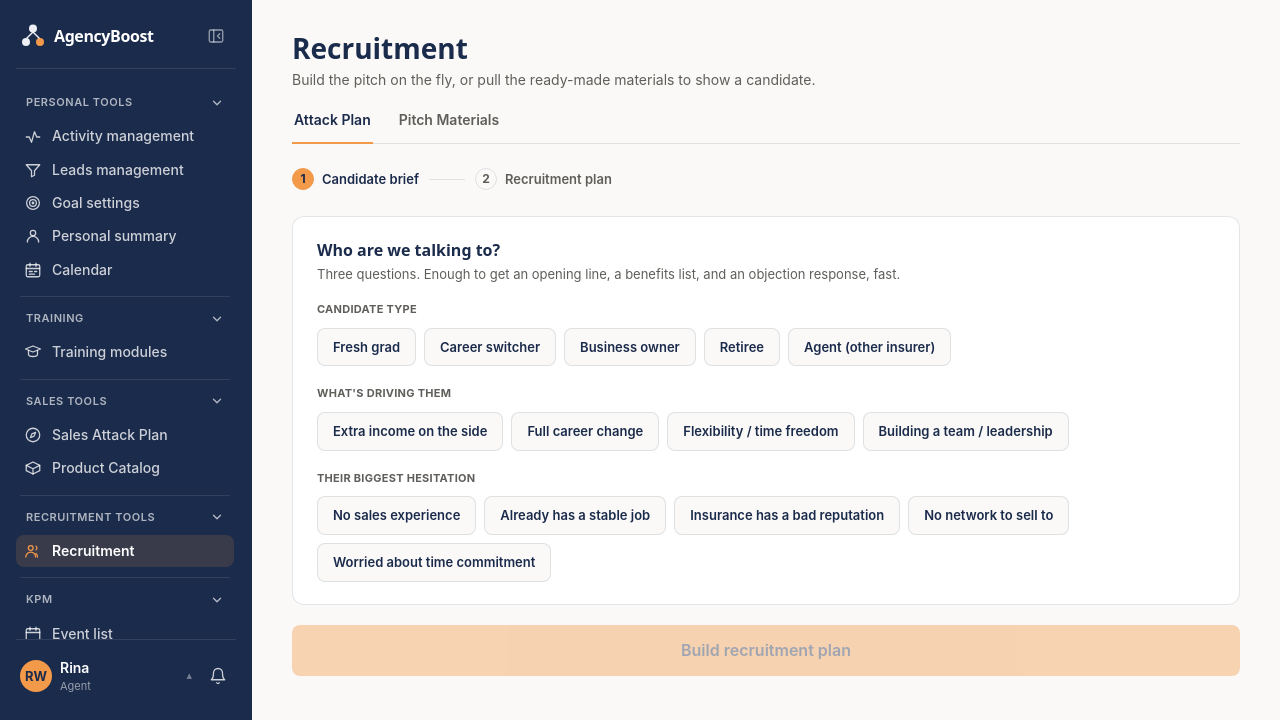
Test: /recruitment/attack-plan, the Recruitment Attack Plan (P17-T3) › the page and the brief, verbatim (AC-2, AC-3) › P17-T3 AC-3 Build recruitment plan: amber (an action, ADR-0137), full width, disabled until a type, a motivation and a hesitation
The image size is (1280, 720).
expect the button "Build recruitment plan" is disabled: met, box [292,625,1240,676]
Click the button "Retiree" at (742,347), box [704,328,780,366]
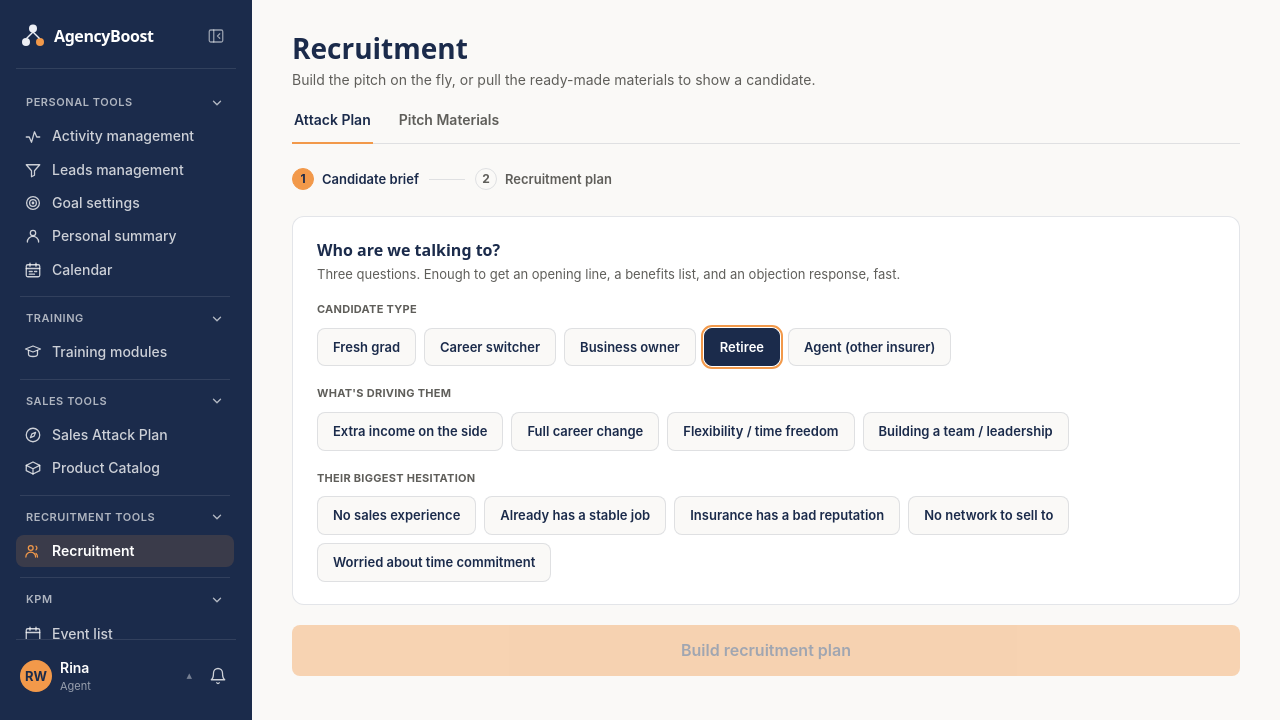
Click the button "Full career change" at (585,431), box [511,412,659,451]
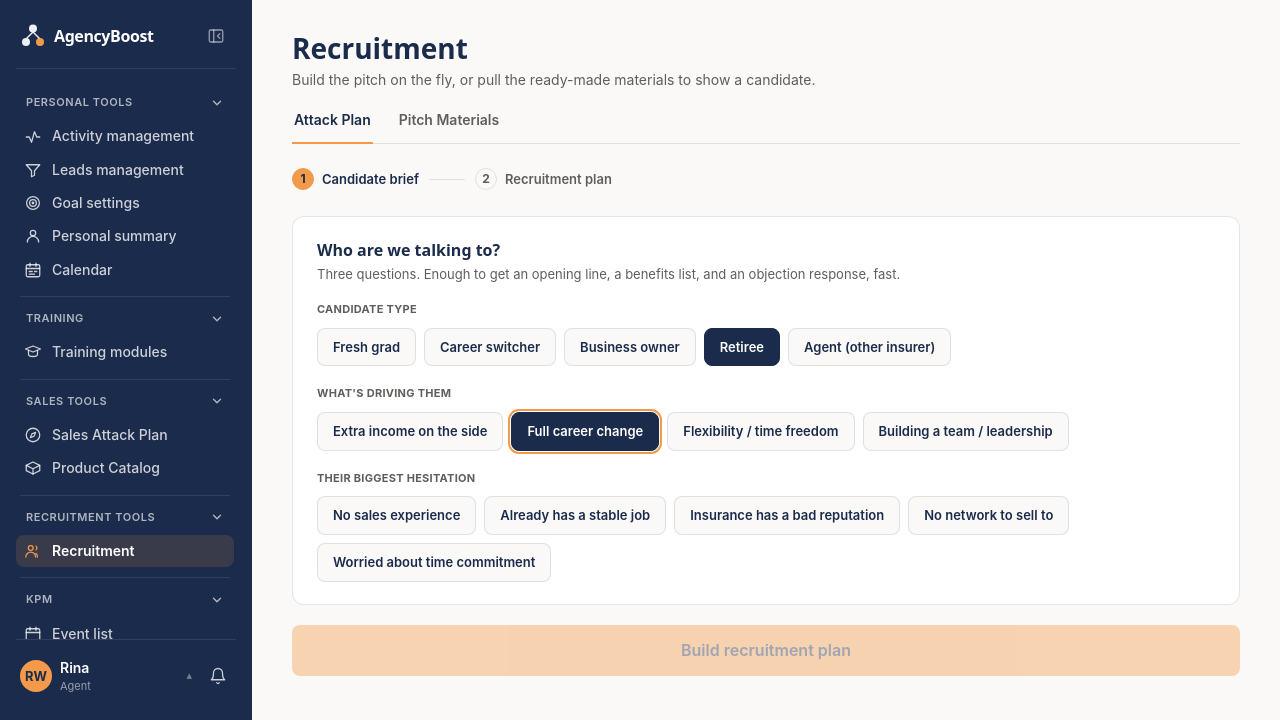
expect the button "Build recruitment plan" is disabled: met, box [292,625,1240,676]
Click the button "No network to sell to" at (989,516), box [908,496,1069,535]
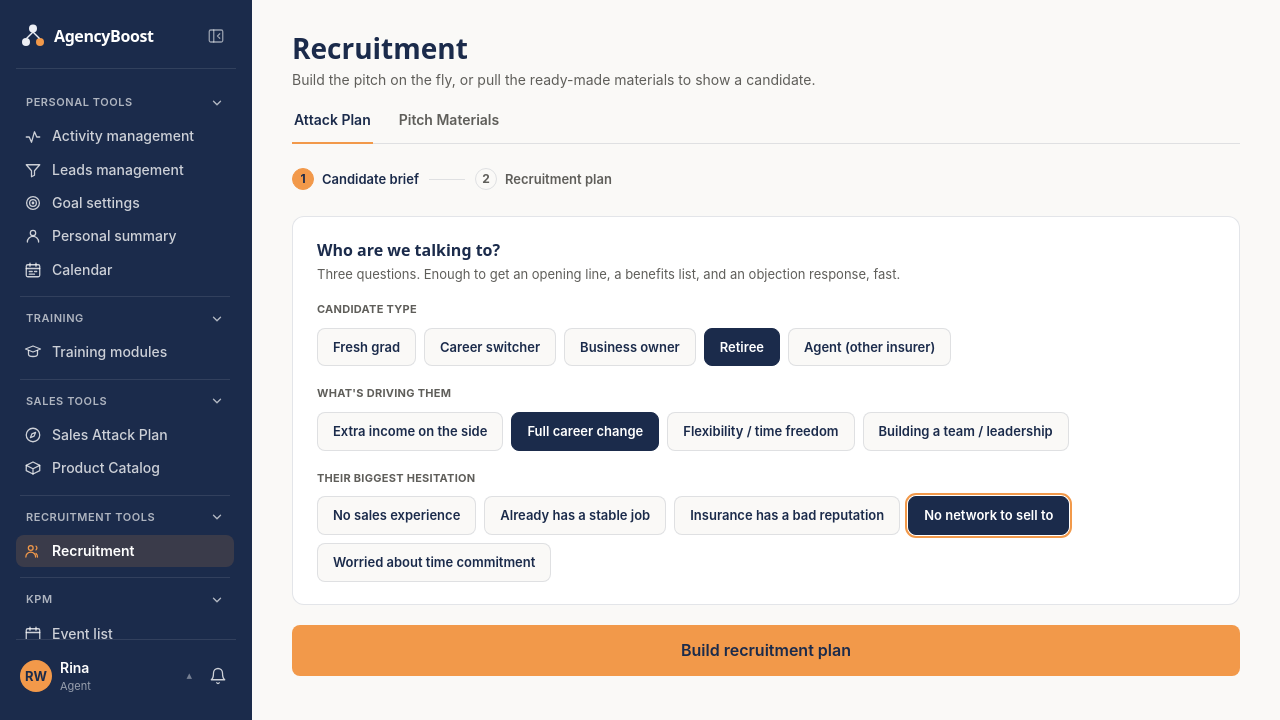
expect the button "Build recruitment plan" is enabled: met, box [292,625,1240,676]
# Unchoosing the only hesitation closes it again.
Click the button "No network to sell to" at (989,516), box [908,496,1069,535]
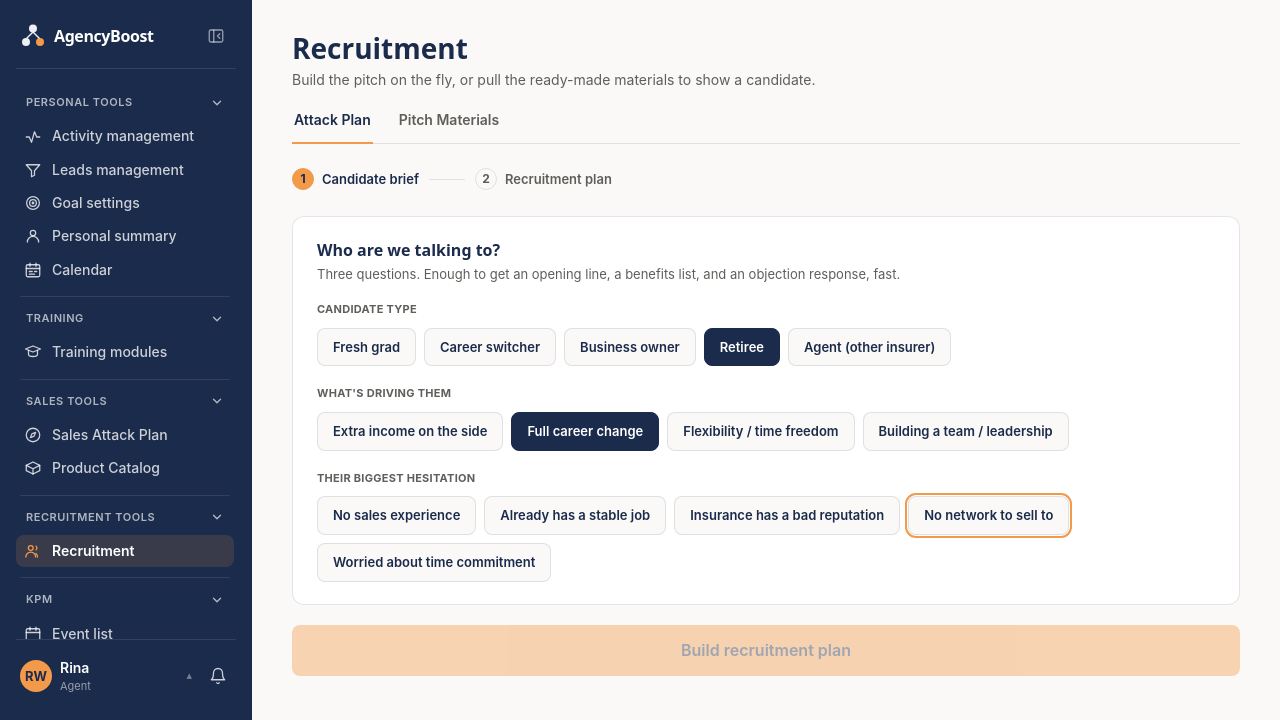
expect the button "Build recruitment plan" is disabled: met, box [292,625,1240,676]
